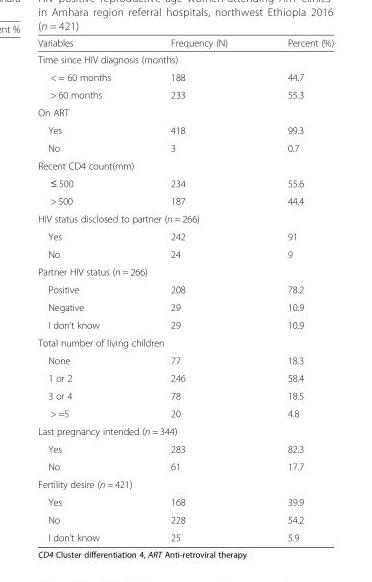table: (37, 36, 333, 542)
table column: (140, 36, 256, 542), (37, 36, 140, 542), (256, 36, 333, 542)
table column header: (37, 36, 333, 50)
table projected row header: (37, 103, 333, 121), (37, 209, 333, 227), (37, 262, 333, 280), (37, 333, 333, 351), (37, 421, 333, 439), (37, 50, 333, 67), (37, 156, 333, 173), (37, 475, 333, 492)
table row: (37, 67, 333, 85), (37, 85, 333, 103), (37, 103, 333, 121), (37, 138, 333, 156), (37, 173, 333, 191), (37, 191, 333, 209), (37, 209, 333, 227), (37, 227, 333, 245), (37, 262, 333, 280), (37, 280, 333, 298), (37, 315, 333, 333), (37, 333, 333, 351), (37, 368, 333, 386), (37, 386, 333, 404), (37, 421, 333, 439), (37, 439, 333, 457), (37, 457, 333, 475), (37, 492, 333, 510), (37, 510, 333, 528), (37, 50, 333, 67), (37, 121, 333, 138), (37, 156, 333, 173), (37, 245, 333, 262), (37, 298, 333, 315), (37, 351, 333, 368), (37, 404, 333, 421), (37, 475, 333, 492), (37, 36, 333, 50), (37, 528, 333, 542)
